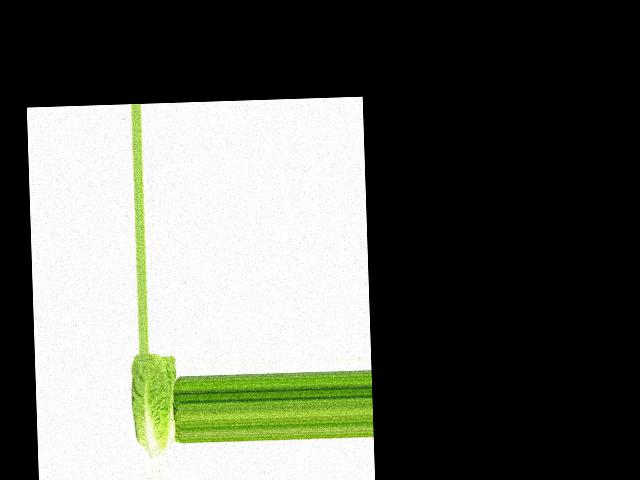lettuce: (123, 351, 176, 458)
